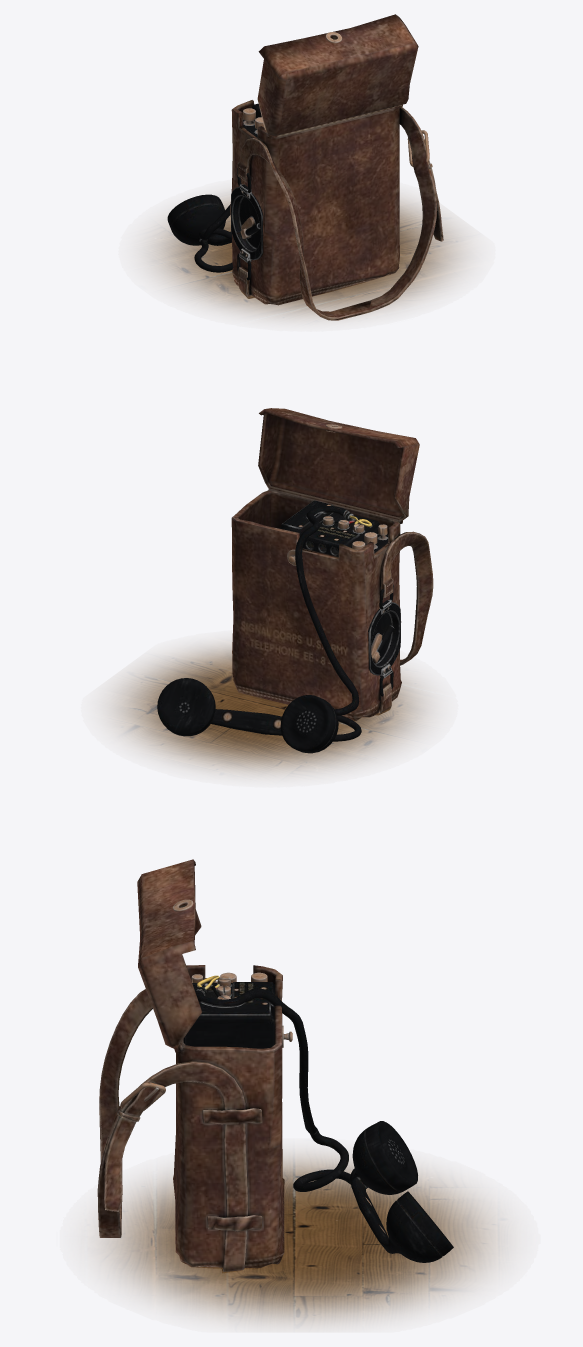
Rendered from field_telephone.glb.
3 views of the same model, one above another, from view 1: azimuth 30°, elevation 25°; view 2: azimuth 150°, elevation 25°; view 3: azimuth 270°, elevation 25° (orthographic). The views are drawn at different scales.
Parts seen in each view (by area): view 1: Object_6, Object_8, Object_4; view 2: Object_6, Object_8, Object_4; view 3: Object_6, Object_8, Object_4.
Part boxes in pixels (<box>): Object_6: <box>230,14,443,320</box>; Object_8: <box>148,193,465,318</box>; Object_4: <box>167,32,429,280</box>; Object_6: <box>231,408,433,720</box>; Object_8: <box>111,643,427,774</box>; Object_4: <box>157,424,400,753</box>; Object_6: <box>97,859,284,1272</box>; Object_8: <box>97,1154,501,1324</box>; Object_4: <box>120,899,453,1262</box>.
Bounding box in the file's own units: 2.45 × 1.8 × 2.73.
3 materials, 3 textured.
